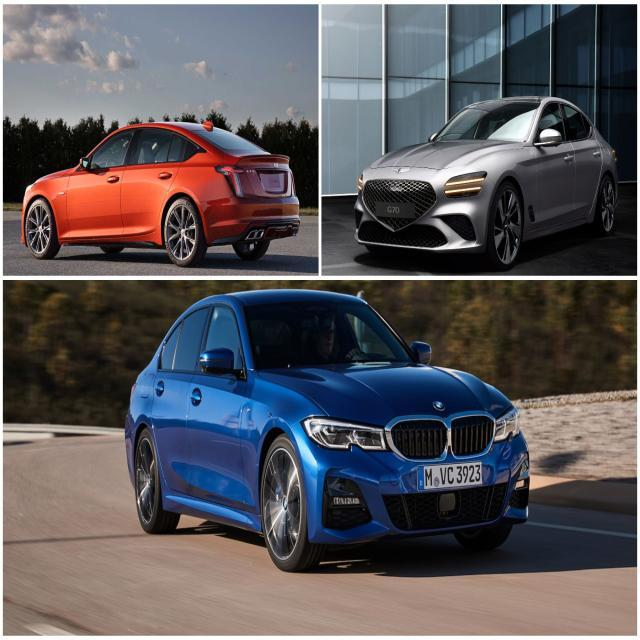pickup: (124, 288, 530, 572), (354, 94, 618, 270), (21, 118, 300, 267)
